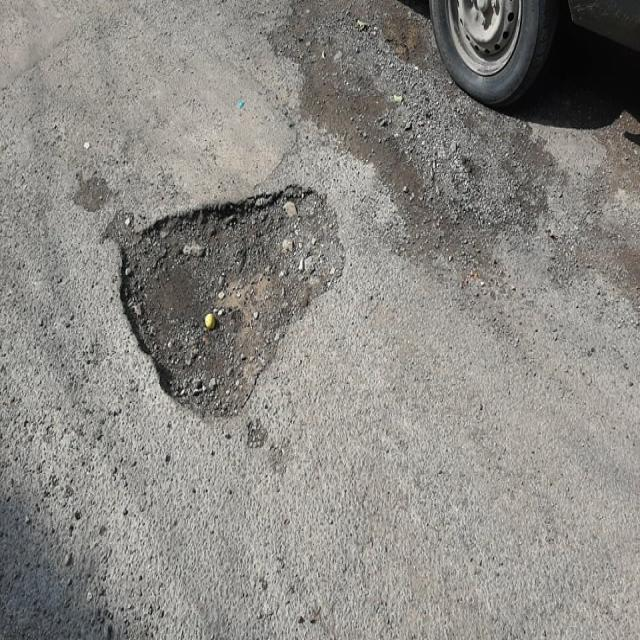Pothole: (104, 185, 344, 416)
